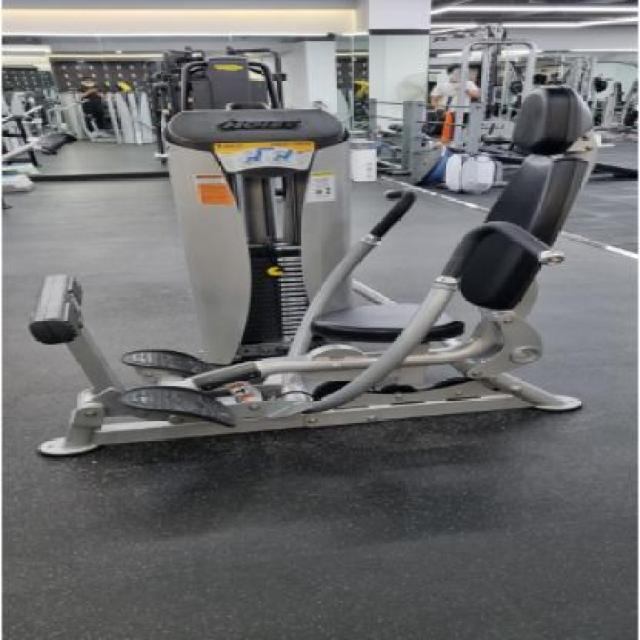Chest Press machine: (23, 64, 602, 470)
